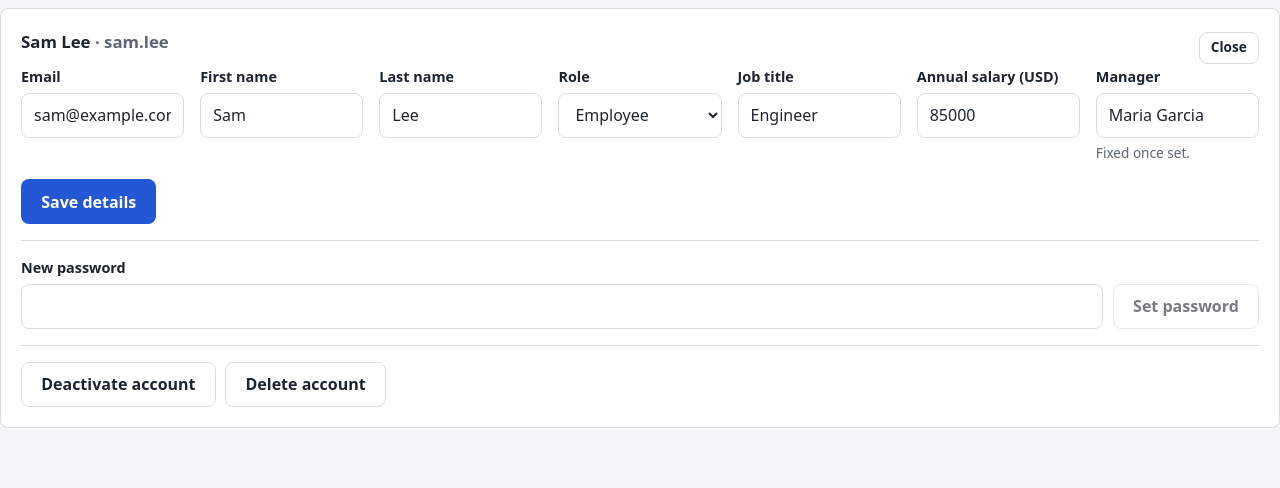
Test case: AccountPanel password › sets the password, clears the field and reports success
Step 1. Type "longpassword" into the password field labelled "New password" → (562, 306), box [21, 284, 1103, 329]
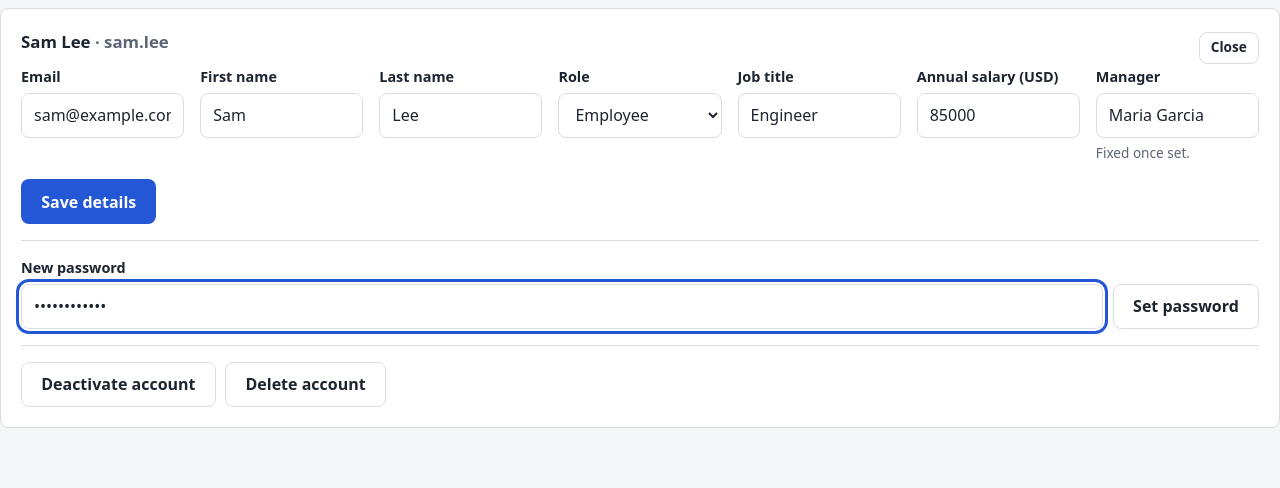
Step 2. Click the button "Set password" → (1186, 306), box [1113, 284, 1259, 329]
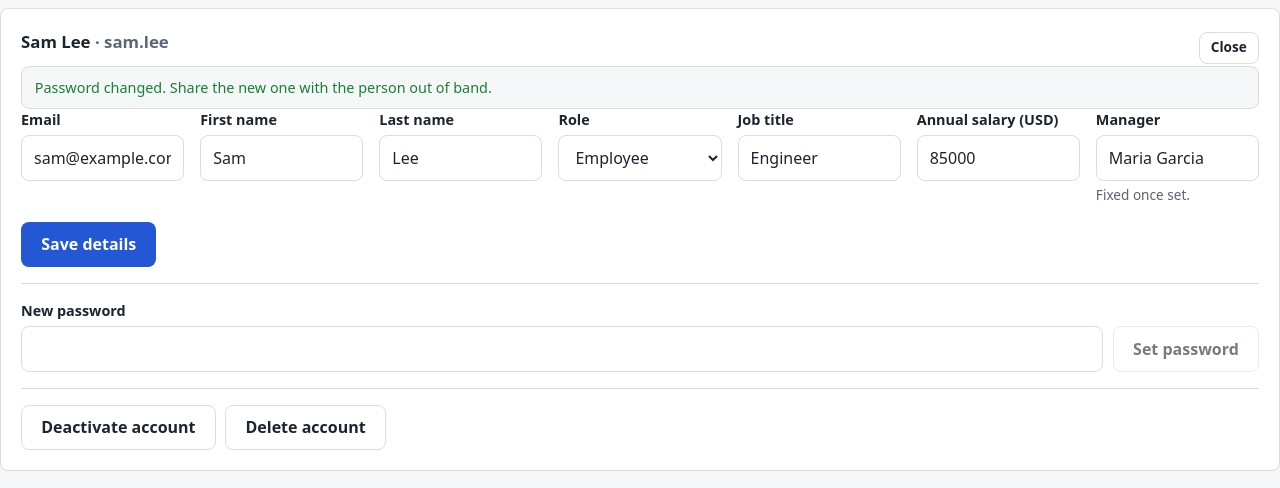
Expected: the message shows "Password changed.", [35, 78, 492, 97]
Expected: the password field labelled "New password" is empty, [21, 326, 1103, 372]
